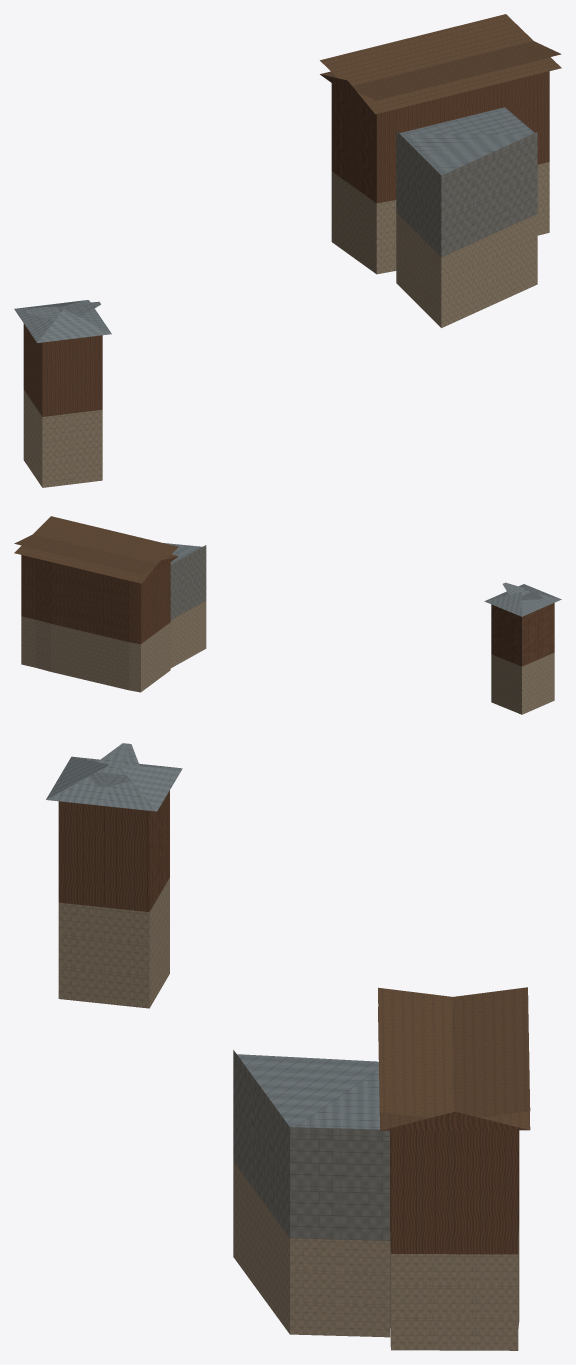
File: bld_c28_-53_549.gltf
The picture shows the model from 3 angles, top to bottom: view 1: azimuth 30°, elevation 25°; view 2: azimuth 150°, elevation 25°; view 3: azimuth 270°, elevation 25°; orthographic projection. The views are drawn at different scales.
Visible parts, largest first — view 1: bld_c28_-53_549; view 2: bld_c28_-53_549; view 3: bld_c28_-53_549.
Part boxes in pixels (box(x1,y1,x2,y2)): bld_c28_-53_549: box(14, 14, 561, 487); bld_c28_-53_549: box(14, 516, 561, 714); bld_c28_-53_549: box(46, 743, 530, 1350).
Bounding box in the file's own units: 48.05 × 14.3 × 23.24.
7 materials, 7 textured.
